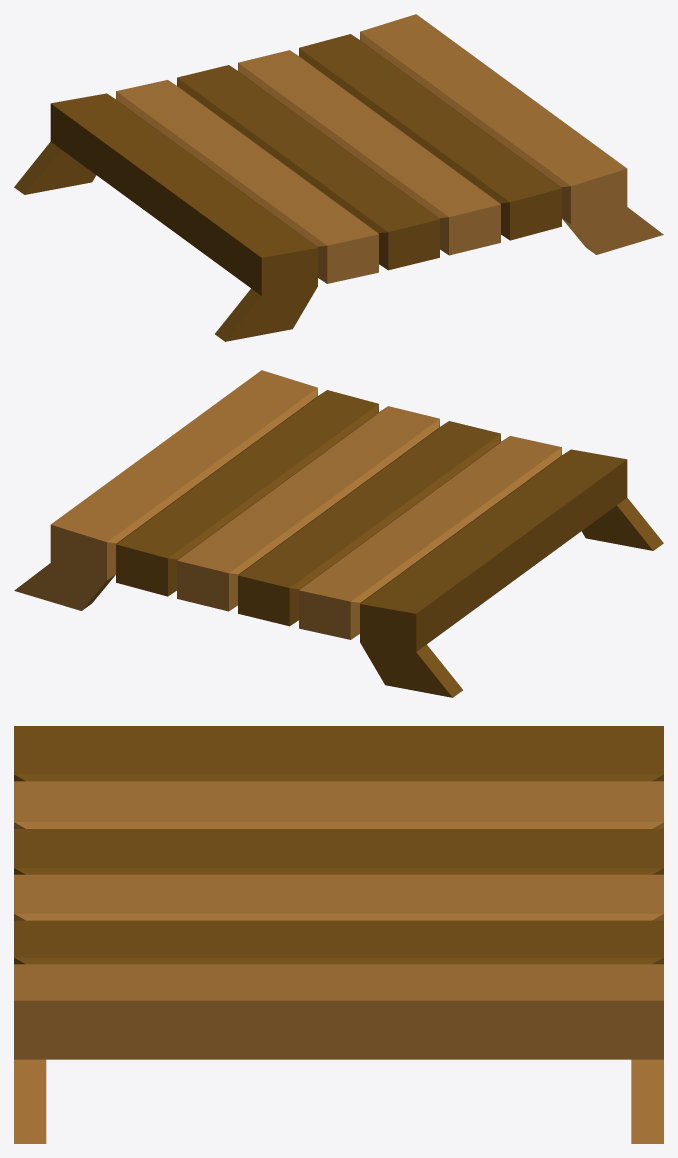
The model's file is Pont 2.fbx.
The picture shows the model from 3 angles, top to bottom: view 1: azimuth 30°, elevation 25°; view 2: azimuth 150°, elevation 25°; view 3: azimuth 270°, elevation 25°; orthographic projection. The views are drawn at different scales.
Parts seen in each view (by area): view 1: Cube.016; view 2: Cube.016; view 3: Cube.016.
Part boxes in pixels (<box>): Cube.016: <box>14,14,663,341</box>; Cube.016: <box>14,370,663,697</box>; Cube.016: <box>14,726,663,1143</box>.
Bounding box in the file's own units: 36 × 6.19 × 30.
